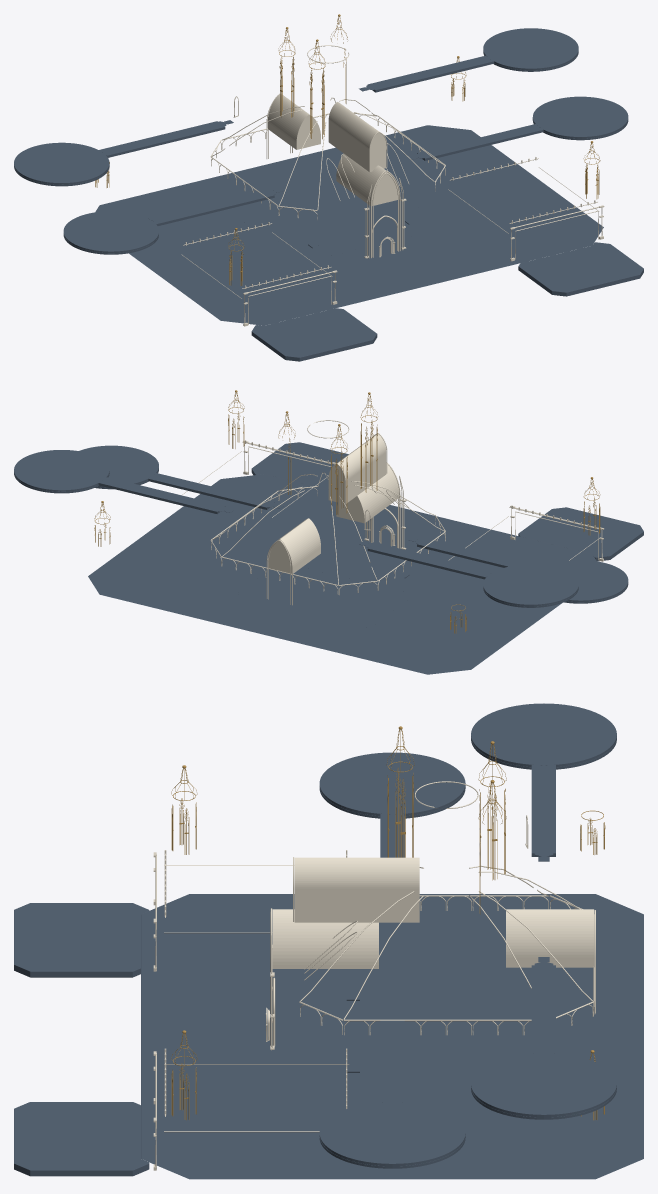
File: Spaceport-01.glb
3 views of the same model, one above another, from view 1: azimuth 30°, elevation 25°; view 2: azimuth 150°, elevation 25°; view 3: azimuth 270°, elevation 25° (orthographic). The views are drawn at different scales.
Visible parts, largest first — view 1: NSP01.Native.1.2.Deck, NSP01.Native.1.0.Ivory, NSP01.Native.1.1.Gold; view 2: NSP01.Native.1.2.Deck, NSP01.Native.1.0.Ivory, NSP01.Native.1.1.Gold; view 3: NSP01.Native.1.2.Deck, NSP01.Native.1.0.Ivory, NSP01.Native.1.1.Gold.
Part boxes in pixels (x1=…): NSP01.Native.1.2.Deck: x1=14, y1=28, x2=643, y2=361; NSP01.Native.1.0.Ivory: x1=181, y1=45, x2=604, y2=326; NSP01.Native.1.1.Gold: x1=95, y1=14, x2=600, y2=285; NSP01.Native.1.2.Deck: x1=14, y1=442, x2=643, y2=674; NSP01.Native.1.0.Ivory: x1=182, y1=420, x2=604, y2=605; NSP01.Native.1.1.Gold: x1=94, y1=390, x2=600, y2=633; NSP01.Native.1.2.Deck: x1=14, y1=703, x2=643, y2=1179; NSP01.Native.1.0.Ivory: x1=153, y1=781, x2=595, y2=1170; NSP01.Native.1.1.Gold: x1=171, y1=726, x2=605, y2=1120.
Size of the model in its own units: 720 by 242 by 466.
